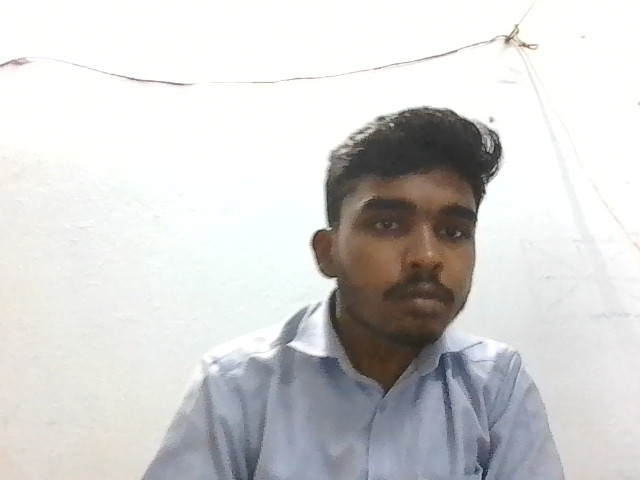real: (316, 100, 499, 360)
